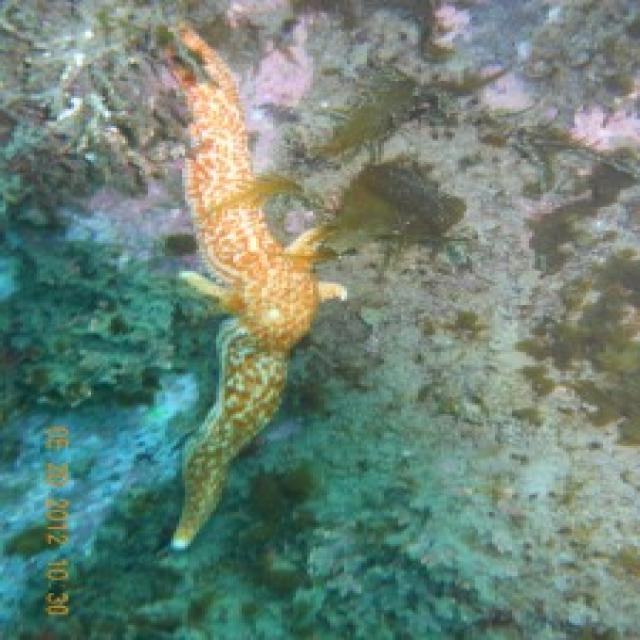Starfish: (136, 21, 350, 560)
